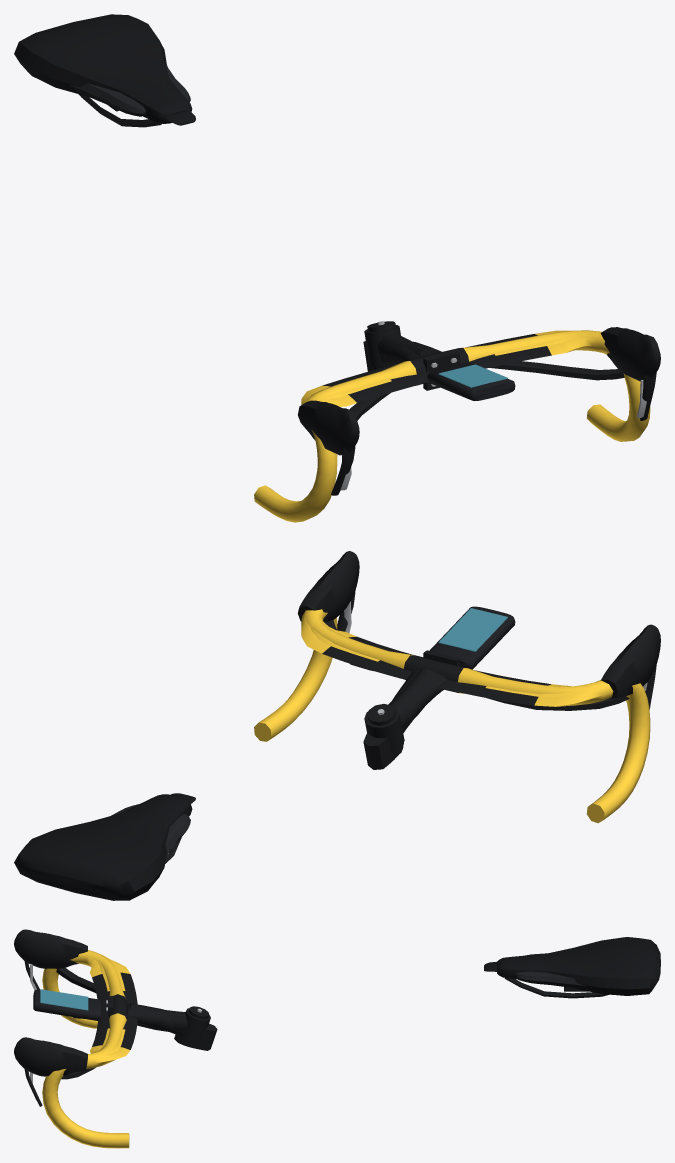
The model's file is parts.glb.
3 views of the same model, one above another, from view 1: azimuth 30°, elevation 25°; view 2: azimuth 150°, elevation 25°; view 3: azimuth 270°, elevation 25° (orthographic). The views are drawn at different scales.
Parts seen in each view (by area): view 1: cockpit_aero, saddle_comfort, cockpit_wing, cockpit_classic, saddle_3d; view 2: cockpit_aero, saddle_comfort, cockpit_classic, cockpit_wing, saddle_3d; view 3: cockpit_aero, saddle_comfort, cockpit_wing, cockpit_classic, saddle_3d.
Boxes of the visible parts, x1,y1,x2,y2 form: cockpit_aero: (254,327,660,522); saddle_comfort: (14,14,192,123); cockpit_wing: (301,330,624,420); cockpit_classic: (311,321,582,397); saddle_3d: (68,65,190,127); cockpit_aero: (254,551,660,823); saddle_comfort: (14,794,192,900); cockpit_classic: (254,620,604,822); cockpit_wing: (301,610,629,710); saddle_3d: (111,804,190,863); cockpit_aero: (14,929,217,1148); saddle_comfort: (496,937,660,995); cockpit_wing: (56,954,137,1079); cockpit_classic: (97,956,210,1146); saddle_3d: (504,953,608,998).
Size of the model in its own units: 0.4654 by 0.2341 by 1.01.
